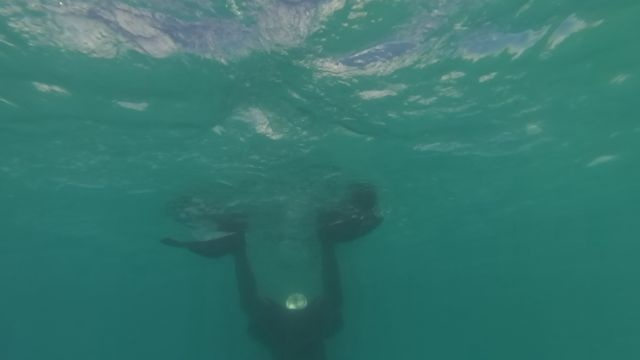Diver: (155, 209, 389, 358)
